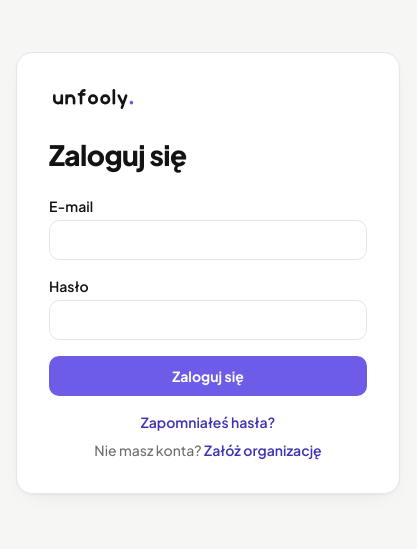
LoginPage › pokazuje komunikat błędu połączenia, gdy fetch się nie uda
This screenshot has width=417, height=549.
Type "admin@example.test" into the field labelled "E-mail" at (208, 240), box [49, 220, 367, 260]
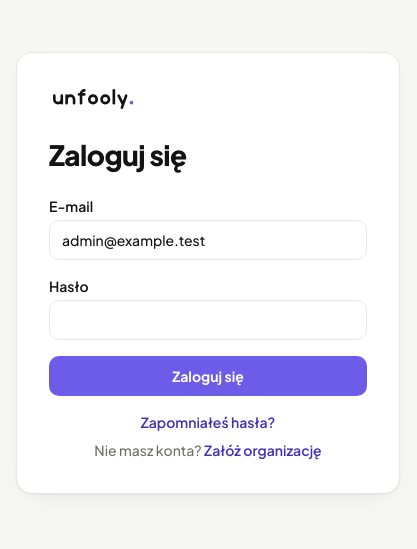
Type "SuperSecret123!" into the password field labelled "Hasło" at (208, 320), box [49, 300, 367, 340]
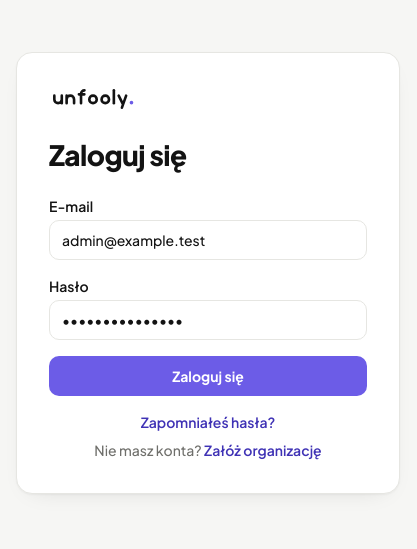
Click the button "Zaloguj się" at (208, 376), box [49, 356, 367, 396]
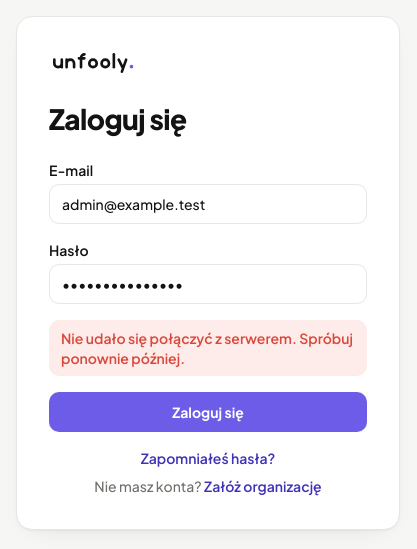
Result: the message shows "Nie udało się połączyć" at [61, 329, 353, 367]
